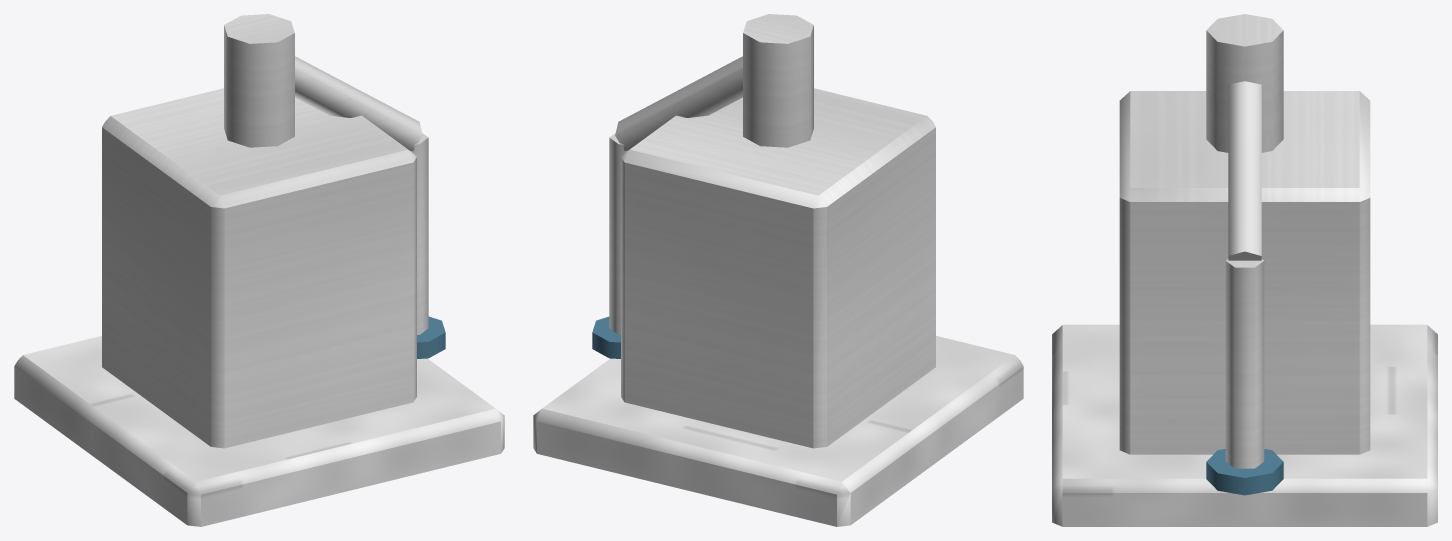
Rendered from moisture_pump.obj.
3 renders of one model, left to right at view 1: azimuth 30°, elevation 25°; view 2: azimuth 150°, elevation 25°; view 3: azimuth 270°, elevation 25°, orthographic. The views are drawn at different scales.
Parts seen in each view (by area): view 1: pump_housing, concrete_plinth, retained_10, retained_19, retained_33, retained_47; view 2: pump_housing, concrete_plinth, retained_10, retained_19, retained_33, retained_47; view 3: pump_housing, concrete_plinth, retained_33, retained_10, retained_19, retained_47.
Boxes of the visible parts, <box> form: pump_housing: <box>102,88,416,448</box>; concrete_plinth: <box>14,336,504,526</box>; retained_10: <box>224,14,294,147</box>; retained_19: <box>295,56,422,150</box>; retained_33: <box>410,133,428,334</box>; retained_47: <box>417,316,445,358</box>; pump_housing: <box>621,88,935,448</box>; concrete_plinth: <box>533,336,1023,526</box>; retained_10: <box>743,14,813,147</box>; retained_19: <box>615,56,742,150</box>; retained_33: <box>609,133,627,334</box>; retained_47: <box>592,316,620,358</box>; pump_housing: <box>1119,91,1370,454</box>; concrete_plinth: <box>1052,324,1437,526</box>; retained_33: <box>1225,259,1264,468</box>; retained_10: <box>1206,14,1283,152</box>; retained_19: <box>1228,81,1261,260</box>; retained_47: <box>1206,449,1283,495</box>.
Size of the model in its own units: 0.86 by 0.95 by 0.8.
